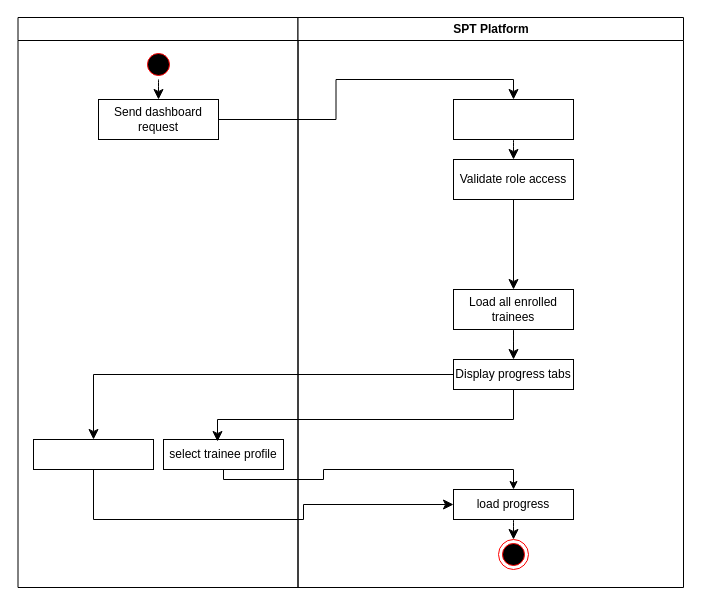
This 701x605 diagram has some shape labels left out. The box of each missing label's shape, as (x1, y1, x2, y2) in pixels:
overall analytics: (32, 438, 154, 470)
Receive dashboard request: (452, 98, 574, 140)
Supervisor: (17, 16, 298, 588)
